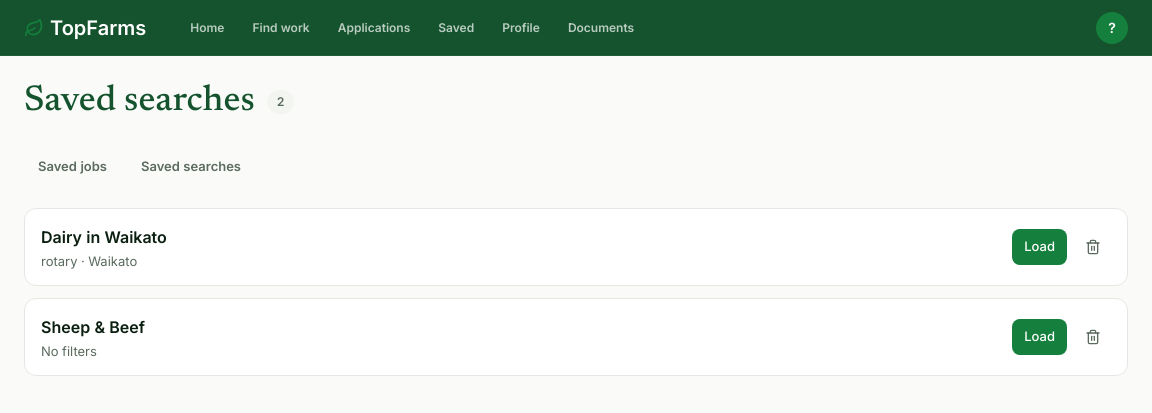
SavedSearches list page (SRCH-15) › Click on name enters inline edit mode (Input replaces heading)
The width and height of the screenshot is (1152, 413).
Note: Click the name button to enter edit mode
Click the button with aria-label "rename dairy in waikato" at [104, 237], box [41, 225, 1000, 249]
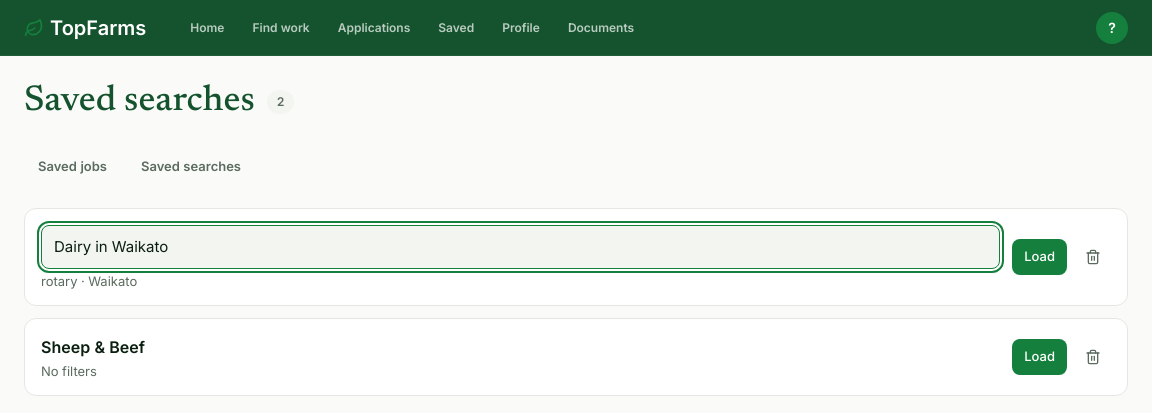
Result: the field named "Edit saved search name" holds "Dairy in Waikato" at [41, 225, 1000, 269]
